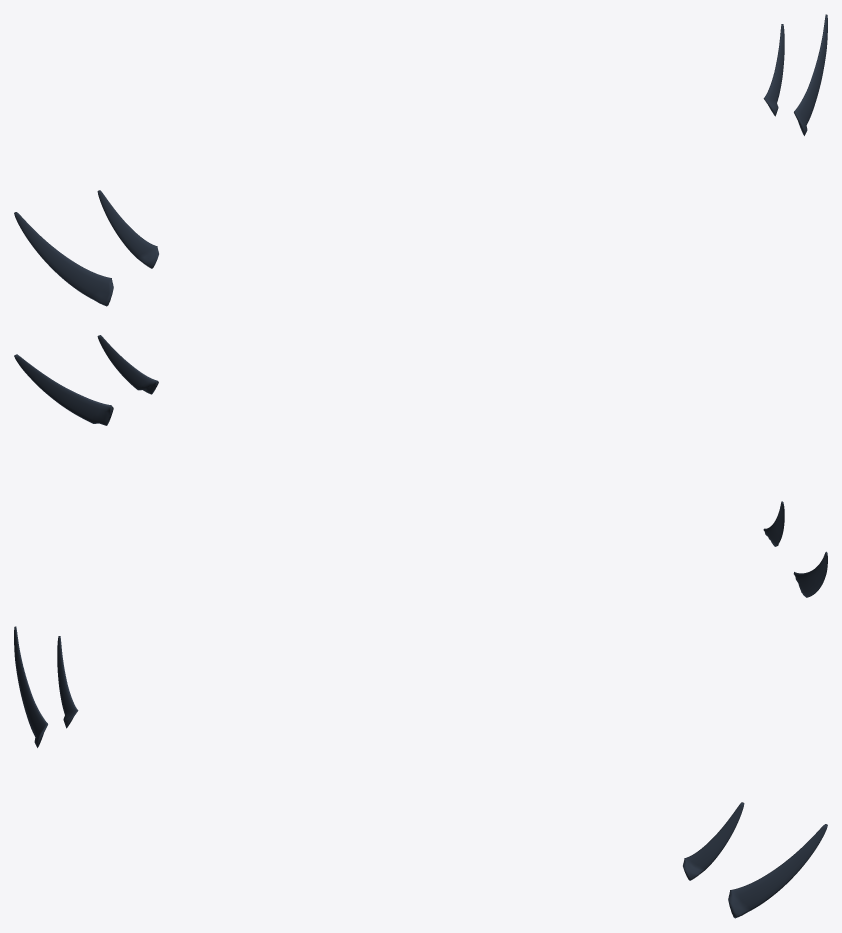
The model's file is Feminine-Feminine-bean-lashes-f96758f5.glb.
The picture shows the model from 3 angles, top to bottom: view 1: azimuth 30°, elevation 25°; view 2: azimuth 150°, elevation 25°; view 3: azimuth 330°, elevation 25°; orthographic projection.
Parts seen in each view (by area): view 1: 226 eyelashes / Lashes / charcoal234; view 2: 226 eyelashes / Lashes / charcoal234; view 3: 226 eyelashes / Lashes / charcoal234.
Part boxes in pixels (<box>): 226 eyelashes / Lashes / charcoal234: <box>14,14,827,306</box>; 226 eyelashes / Lashes / charcoal234: <box>14,335,827,597</box>; 226 eyelashes / Lashes / charcoal234: <box>14,626,827,918</box>.
Bounding box in the file's own units: 0.5363 × 0.0652 × 0.0508.
